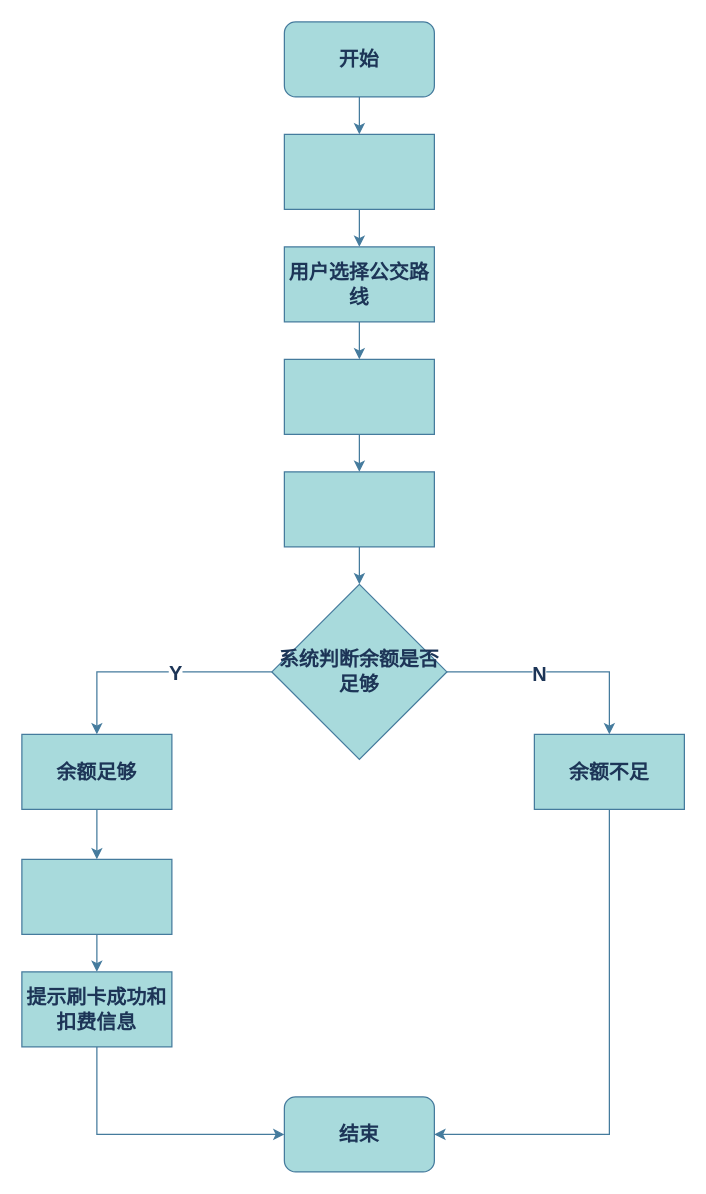
Some shapes in this 706 by 1194 pixel diagram are drawn without their labels. The centre of each missing label's shape, as x and y in pixels:
"用户输入自己的卡号" belongs at point (358, 396).
"用户进行操作" belongs at point (358, 171).
"系统查询该卡余额" belongs at point (358, 509).
"系统进行扣费并更新余额" belongs at point (96, 896).
